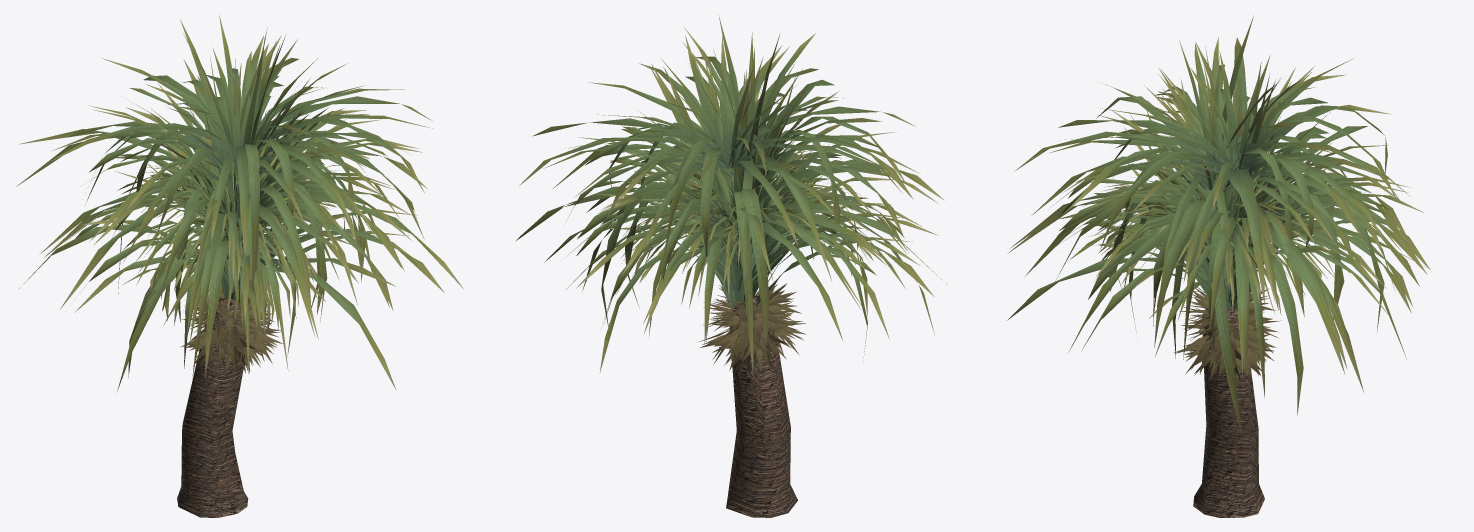
File: tree-small-palm.glb
The picture shows the model from 3 angles, left to right: view 1: azimuth 30°, elevation 25°; view 2: azimuth 150°, elevation 25°; view 3: azimuth 270°, elevation 25°; orthographic projection. The views are drawn at different scales.
Visible parts, largest first — view 1: tree-small-palm; view 2: tree-small-palm; view 3: tree-small-palm.
Part boxes in pixels (box(x1,y1,x2,y2)): tree-small-palm: box(16, 14, 463, 517); tree-small-palm: box(515, 15, 946, 517); tree-small-palm: box(1007, 15, 1430, 517).
Bounding box in the file's own units: 2.56 × 2.8 × 2.52.
3 materials, 3 textured.
